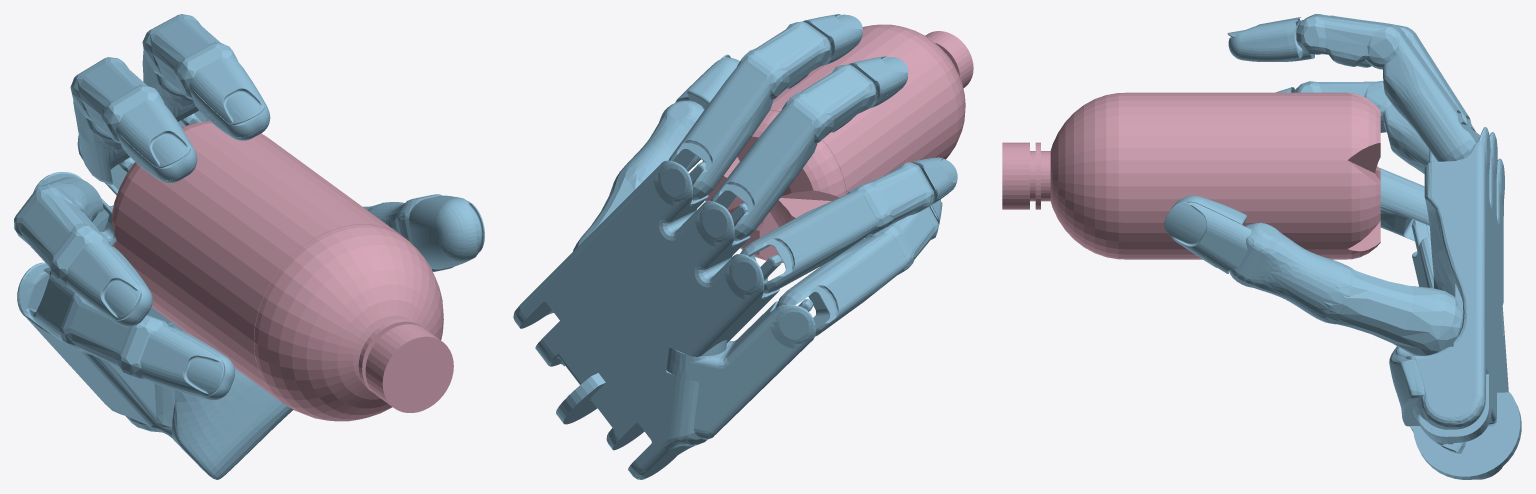
The picture shows the model from 3 angles, left to right: view 1: azimuth 30°, elevation 25°; view 2: azimuth 150°, elevation 25°; view 3: azimuth 270°, elevation 25°; orthographic projection. The views are drawn at different scales.
Visible parts, largest first — view 1: water_bottle.stl, world; view 2: world, water_bottle.stl; view 3: world, water_bottle.stl.
Boxes of the visible parts, x1,y1,x2,y2 form: water_bottle.stl: [112, 121, 453, 421]; world: [14, 14, 484, 479]; world: [513, 14, 957, 479]; water_bottle.stl: [702, 24, 973, 262]; world: [1164, 14, 1521, 479]; water_bottle.stl: [1002, 92, 1380, 259].
Size of the model in its own units: 0.1461 by 0.1691 by 0.1873.
